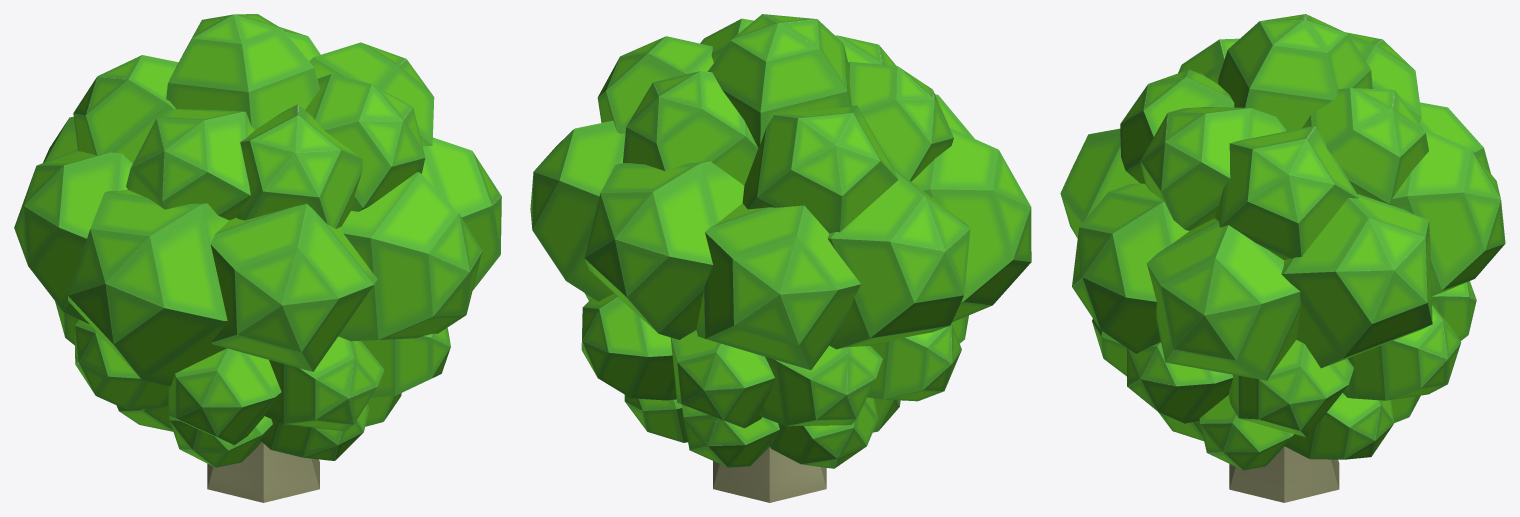
File: Qtree1.fbx
3 views of the same model, side by side, from view 1: azimuth 30°, elevation 25°; view 2: azimuth 150°, elevation 25°; view 3: azimuth 270°, elevation 25° (orthographic). The views are drawn at different scales.
Parts seen in each view (by area): view 1: pasted__pasted__pasted__pasted__pasted__pasted__pasted__past (×6), pasted__pasted__pasted__pasted__pasted__pasted__pSphere1 (×5), pasted__pasted__pasted__pasted__pasted__pasted__pasted__pSph (×2), pasted__pasted__pasted__pasted__pasted__pSphere1 (×3), pasted__pasted__pasted__pasted__pSphere1 (×2), pCylinder1, pSphere1, pasted__pSphere1; view 2: pasted__pasted__pasted__pasted__pasted__pasted__pasted__past (×7), pasted__pasted__pasted__pasted__pasted__pasted__pSphere1 (×3), pasted__pasted__pasted__pasted__pasted__pasted__pasted__pSph (×4), pasted__pasted__pasted__pasted__pasted__pSphere1, pasted__pasted__pasted__pasted__pSphere1 (×2), pCylinder1, pasted__pasted__pasted__pSphere1, pasted__pasted__pSphere1; view 3: pasted__pasted__pasted__pasted__pasted__pasted__pSphere1 (×4), pasted__pasted__pasted__pasted__pasted__pasted__pasted__past (×6), pasted__pasted__pasted__pasted__pasted__pSphere1 (×3), pasted__pasted__pasted__pasted__pasted__pasted__pasted__pSph (×2), pasted__pasted__pasted__pasted__pSphere1 (×2), pasted__pasted__pasted__pSphere1 (×2), pasted__pasted__pSphere1, pCylinder1, pasted__pSphere1, pSphere1.
Part boxes in pixels (<box>): pasted__pasted__pasted__pasted__pasted__pasted__pasted__past (×6): <box>14,14,434,323</box>; pasted__pasted__pasted__pasted__pasted__pasted__pSphere1 (×5): <box>43,116,501,445</box>; pasted__pasted__pasted__pasted__pasted__pasted__pasted__pSph (×2): <box>68,104,362,386</box>; pasted__pasted__pasted__pasted__pasted__pSphere1 (×3): <box>169,172,482,467</box>; pasted__pasted__pasted__pasted__pSphere1 (×2): <box>116,327,450,431</box>; pCylinder1: <box>207,442,319,502</box>; pSphere1: <box>260,404,369,460</box>; pasted__pSphere1: <box>365,393,401,426</box>; pasted__pasted__pasted__pasted__pasted__pasted__pasted__past (×7): <box>597,14,970,428</box>; pasted__pasted__pasted__pasted__pasted__pasted__pSphere1 (×3): <box>530,120,961,401</box>; pasted__pasted__pasted__pasted__pasted__pasted__pasted__pSph (×4): <box>623,35,1031,426</box>; pasted__pasted__pasted__pasted__pasted__pSphere1: <box>584,161,744,339</box>; pasted__pasted__pasted__pasted__pSphere1 (×2): <box>581,293,877,468</box>; pCylinder1: <box>713,446,826,502</box>; pasted__pasted__pasted__pSphere1: <box>681,404,779,467</box>; pasted__pasted__pSphere1: <box>624,395,687,442</box>; pasted__pasted__pasted__pasted__pasted__pasted__pSphere1 (×4): <box>1060,102,1490,380</box>; pasted__pasted__pasted__pasted__pasted__pasted__pasted__past (×6): <box>1140,14,1476,340</box>; pasted__pasted__pasted__pasted__pasted__pSphere1 (×3): <box>1072,128,1505,376</box>; pasted__pasted__pasted__pasted__pasted__pasted__pasted__pSph (×2): <box>1120,69,1428,204</box>; pasted__pasted__pasted__pasted__pSphere1 (×2): <box>1127,304,1461,423</box>; pasted__pasted__pasted__pSphere1 (×2): <box>1228,340,1420,437</box>; pasted__pasted__pSphere1: <box>1284,393,1394,459</box>; pCylinder1: <box>1229,446,1339,502</box>; pasted__pSphere1: <box>1199,395,1294,470</box>; pSphere1: <box>1158,411,1203,440</box>.
Bounding box in the file's own units: 13.34 × 14.04 × 12.66.
Materials: 1 (1 with a texture image).
